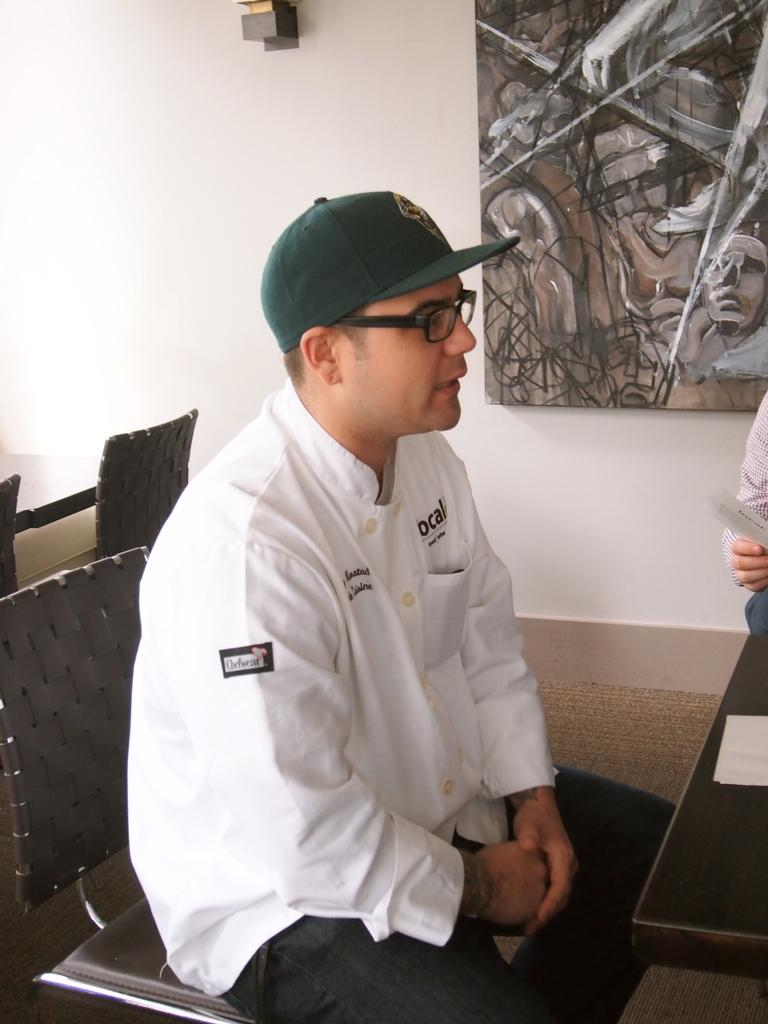Hat: (257, 184, 518, 352)
